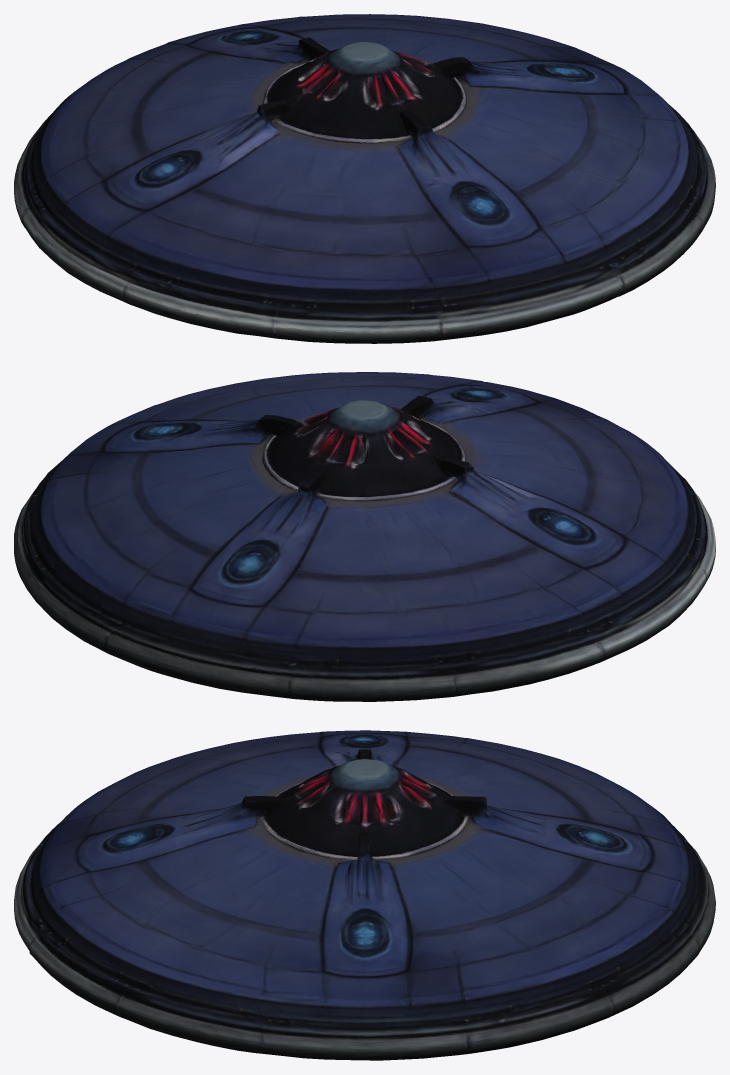
Rendered from ufo_2.glb.
3 renders of one model, top to bottom at view 1: azimuth 30°, elevation 25°; view 2: azimuth 150°, elevation 25°; view 3: azimuth 270°, elevation 25°, orthographic.
Parts seen in each view (by area): view 1: geometry_0; view 2: geometry_0; view 3: geometry_0.
Part boxes in pixels (x1=…): geometry_0: x1=14, y1=14, x2=715, y2=343; geometry_0: x1=14, y1=372, x2=715, y2=701; geometry_0: x1=14, y1=730, x2=715, y2=1060.
Bounding box in the file's own units: 1 × 0.3239 × 1.
Materials: 1 (1 with a texture image).
